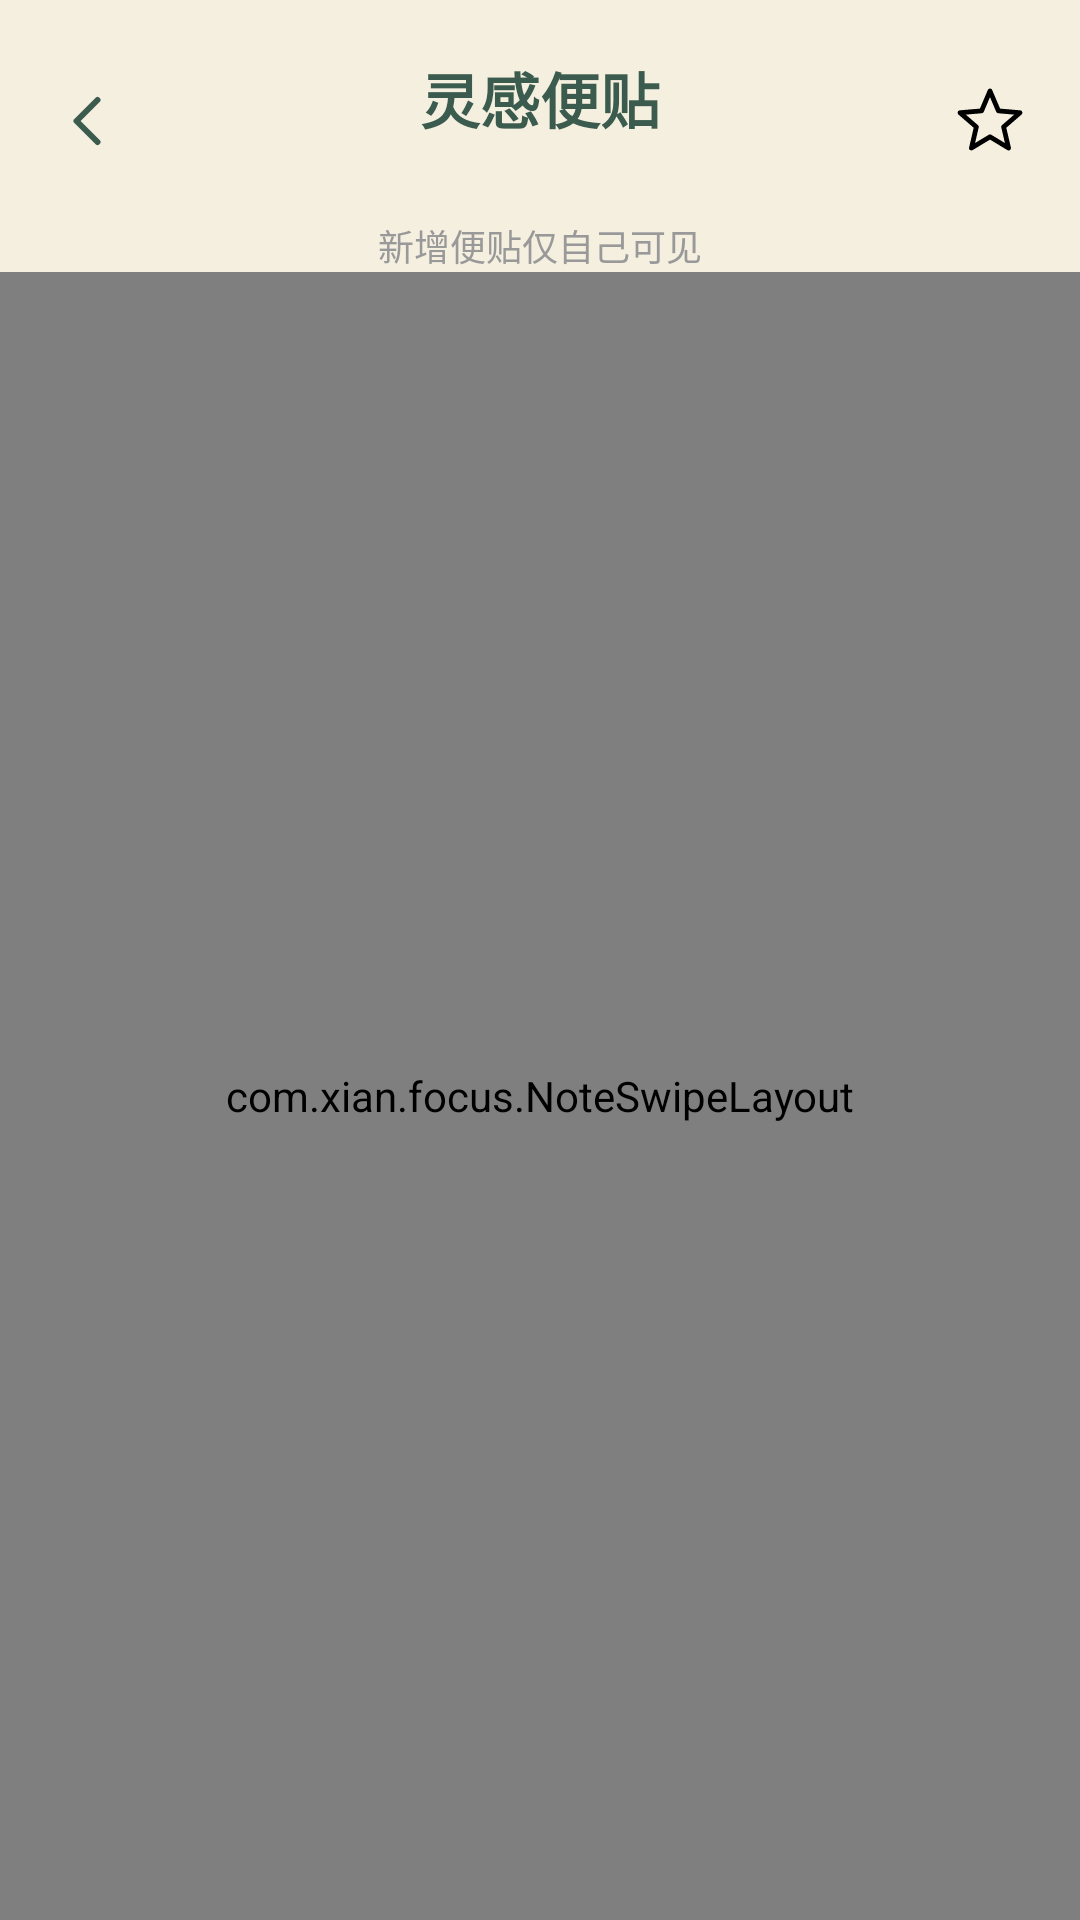

Where to tap for icons on this 1080*1920 app screen, as (x,y):
标星: (990,119)
返回: (87,121)
